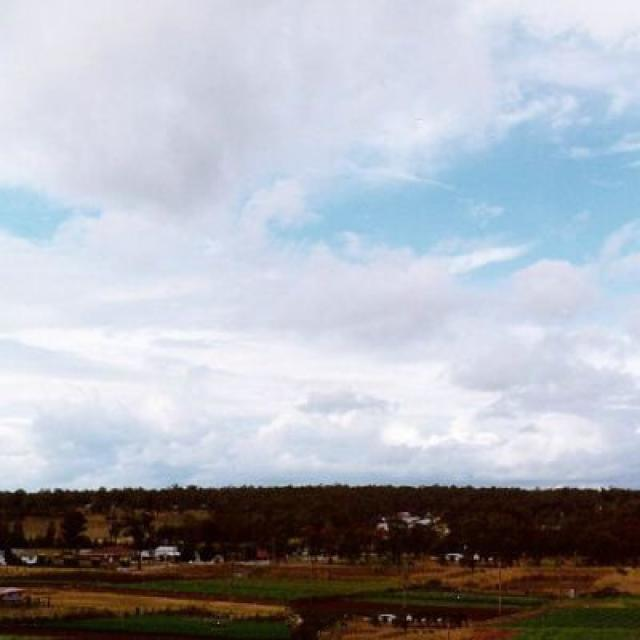Sc: (1, 36, 640, 441)
